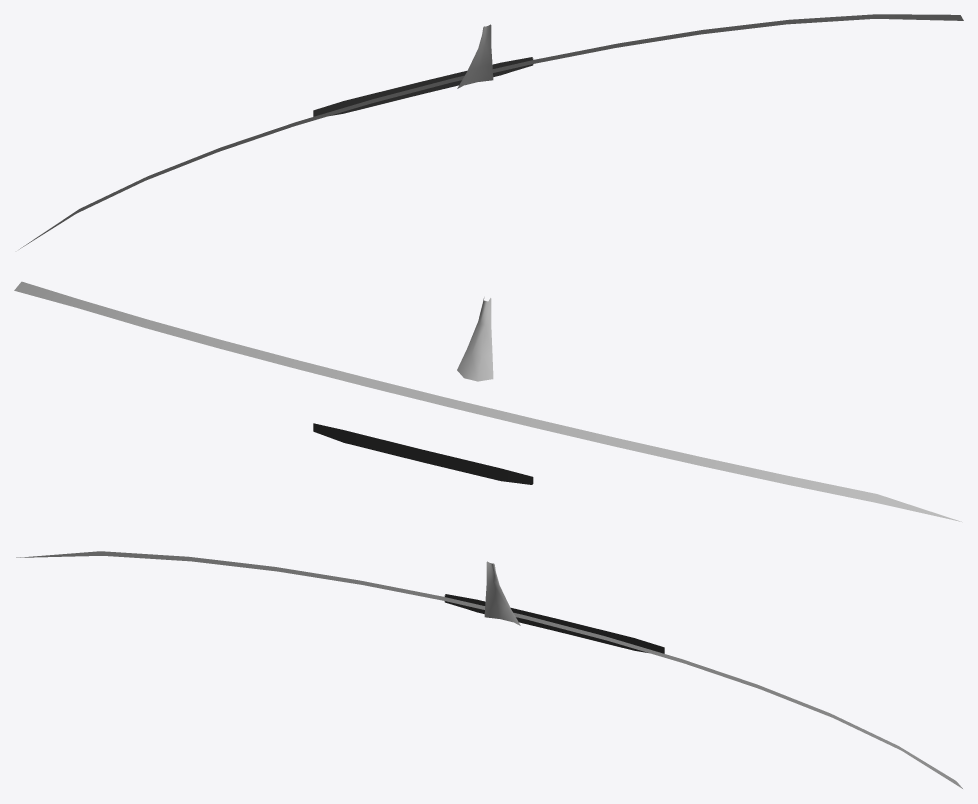
Rendered from M2rooframe.glb.
3 renders of one model, top to bottom at view 1: azimuth 30°, elevation 25°; view 2: azimuth 150°, elevation 25°; view 3: azimuth 330°, elevation 25°, orthographic.
Visible parts, largest first — view 1: Object_23.029, Object_76, Object_23.126, Object_114; view 2: Object_23.029, Object_114, Object_23.126, Object_23.129; view 3: Object_23.029, Object_76, Object_114, Object_23.126, Object_23.129.
Boxes of the visible parts, x1,y1,x2,y2 form: Object_23.029: (19, 14, 963, 249); Object_76: (314, 58, 533, 116); Object_23.126: (464, 24, 493, 85); Object_114: (313, 57, 532, 116); Object_23.029: (14, 281, 962, 522); Object_114: (313, 423, 532, 484); Object_23.126: (457, 297, 487, 381); Object_23.129: (478, 298, 493, 381); Object_23.029: (16, 551, 962, 788); Object_76: (444, 595, 663, 653); Object_114: (445, 594, 664, 653); Object_23.126: (490, 563, 520, 625); Object_23.129: (484, 561, 499, 618).
Bounding box in the file's own units: 1.05 × 0.1243 × 0.1325.
2 materials, 2 textured.
